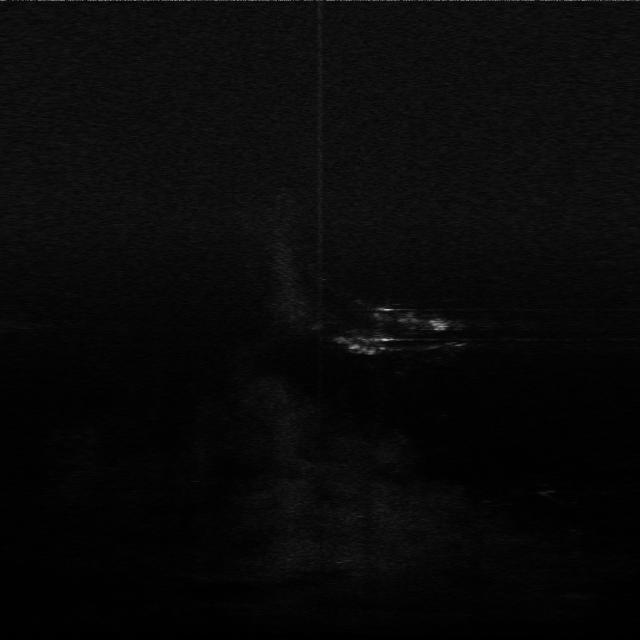rov: (423, 316, 449, 335)
